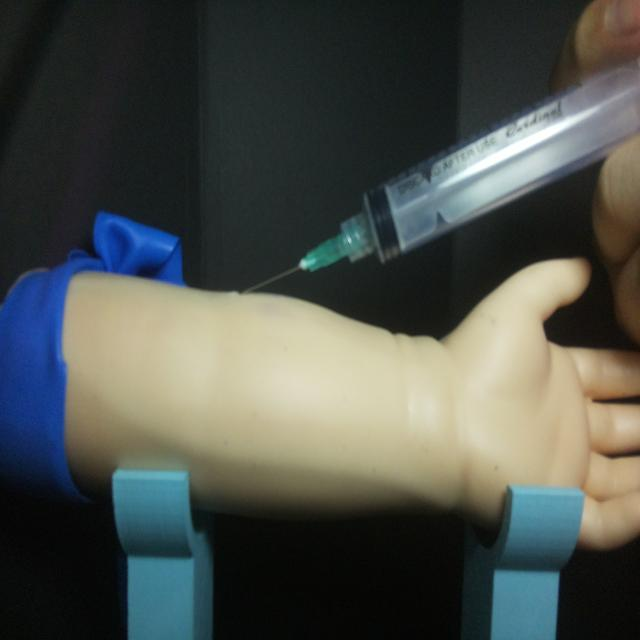18deg: (240, 62, 640, 292)
